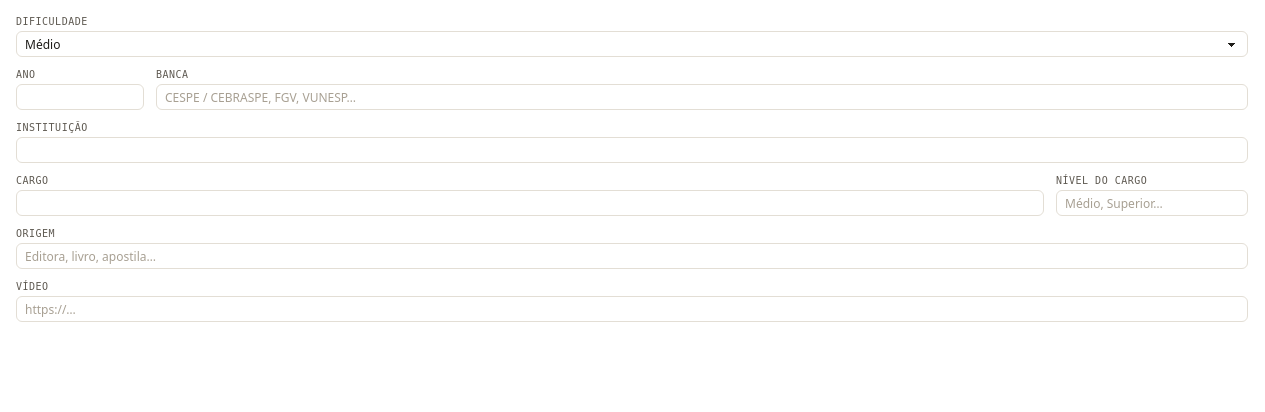
Test: MetadataPanel › só valida a URL ao sair do campo
Type "htt" into the field labelled "Vídeo" at x=632, y=309, box [16,296,1248,322]
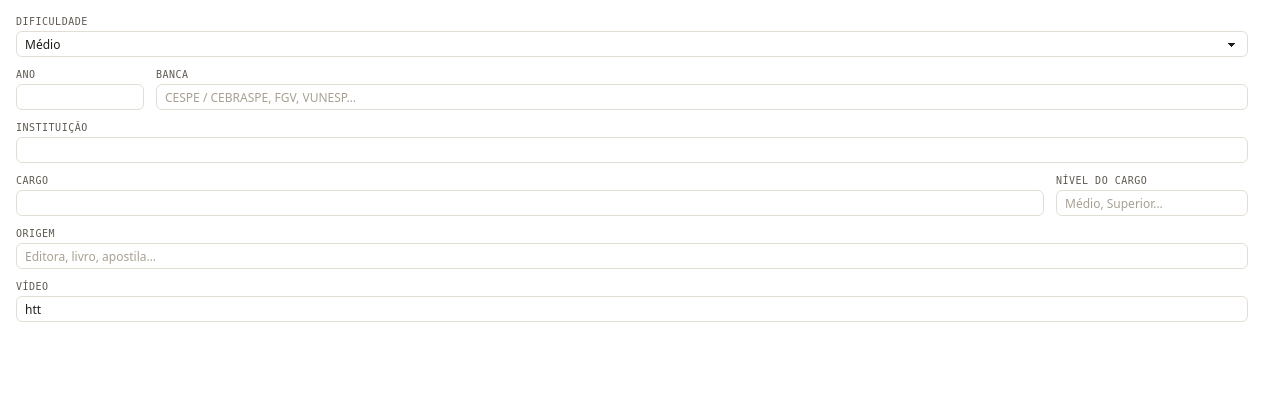
expect the text "Valor recusado" is not shown: met
Leave the field labelled "Vídeo", box [16,296,1248,322]
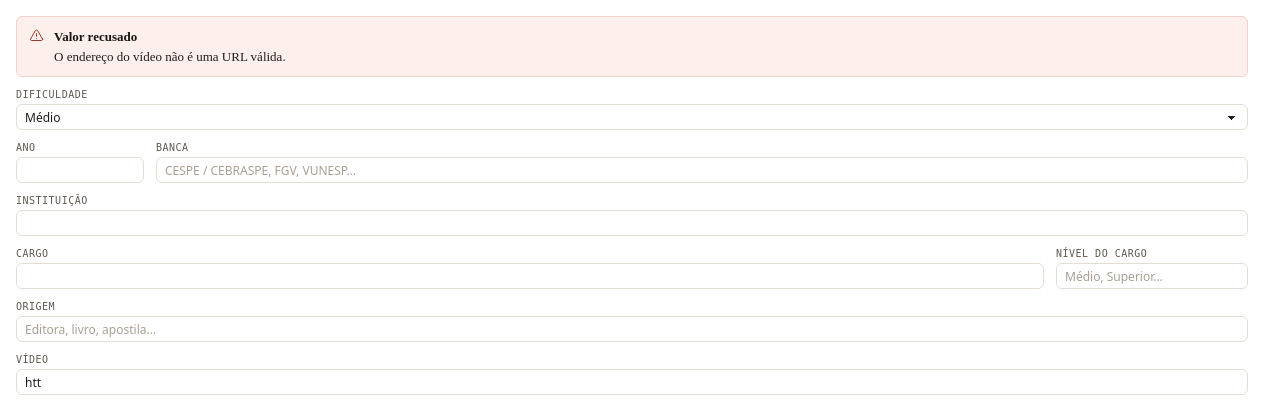
expect the text "Valor recusado" is shown: met, box [54,29,137,44]
